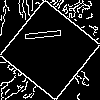I: (25, 25, 71, 43)
